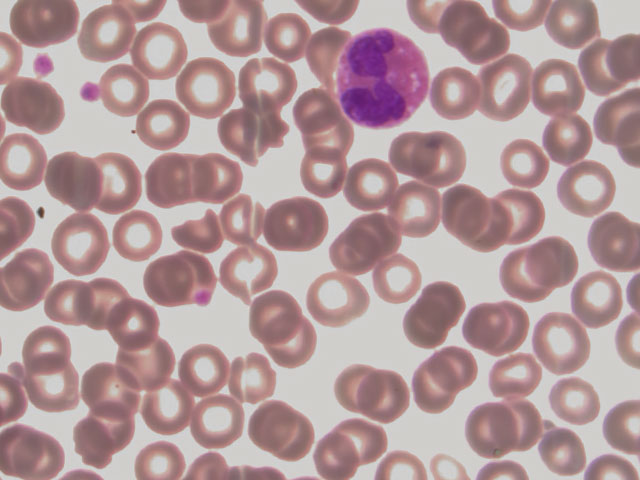Platelets: (29, 52, 61, 79), (75, 79, 101, 105), (192, 290, 212, 307)
RBC: (306, 270, 371, 330), (218, 237, 278, 301), (3, 79, 64, 138), (178, 56, 236, 118), (77, 4, 138, 61), (204, 1, 265, 57), (480, 56, 534, 118), (529, 58, 583, 120), (438, 1, 492, 62), (4, 423, 59, 480), (73, 404, 128, 461), (540, 110, 595, 166), (497, 132, 552, 188), (424, 129, 479, 185), (386, 127, 441, 183), (340, 157, 395, 213), (299, 148, 354, 204), (304, 112, 359, 168), (270, 195, 325, 251), (220, 194, 275, 250), (174, 203, 229, 259), (110, 206, 165, 262), (53, 217, 108, 273), (42, 278, 97, 334), (81, 272, 136, 328), (105, 290, 160, 346), (122, 336, 177, 392), (86, 364, 141, 420), (26, 362, 81, 418), (15, 320, 70, 376), (132, 24, 186, 81), (1, 248, 55, 304), (225, 348, 278, 404), (240, 394, 293, 450), (12, 1, 74, 48), (142, 380, 194, 436), (177, 340, 229, 396), (274, 406, 326, 462), (342, 417, 394, 473), (311, 424, 363, 480), (360, 369, 412, 425), (251, 284, 303, 340), (132, 99, 188, 150), (348, 208, 402, 260), (391, 183, 445, 235), (440, 181, 494, 233), (455, 201, 509, 253), (497, 187, 551, 239), (527, 237, 581, 289), (499, 252, 553, 304), (463, 295, 517, 347), (411, 277, 465, 329), (428, 342, 482, 394), (403, 364, 457, 416), (457, 400, 511, 452), (500, 400, 554, 452), (490, 348, 544, 400), (532, 317, 586, 369), (571, 275, 625, 327), (585, 214, 639, 266), (562, 161, 616, 213), (577, 43, 631, 95), (551, 377, 605, 429), (538, 425, 592, 477), (238, 58, 289, 112), (221, 105, 272, 159), (197, 152, 248, 206), (153, 150, 204, 204), (94, 157, 145, 211), (51, 153, 102, 207), (546, 1, 600, 52), (373, 251, 426, 301), (326, 226, 379, 276), (1, 137, 50, 191), (101, 64, 150, 116), (262, 9, 311, 57), (427, 70, 476, 118), (132, 434, 183, 480), (332, 362, 379, 410), (267, 323, 314, 371)
WBC: (329, 28, 432, 127)
